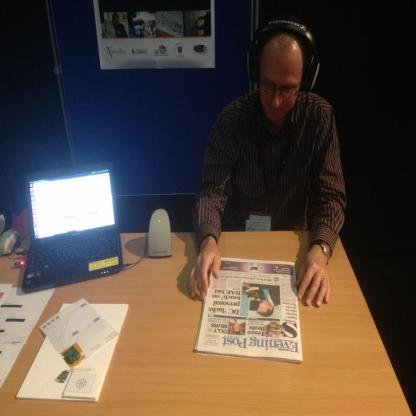board: (16, 155, 128, 298)
